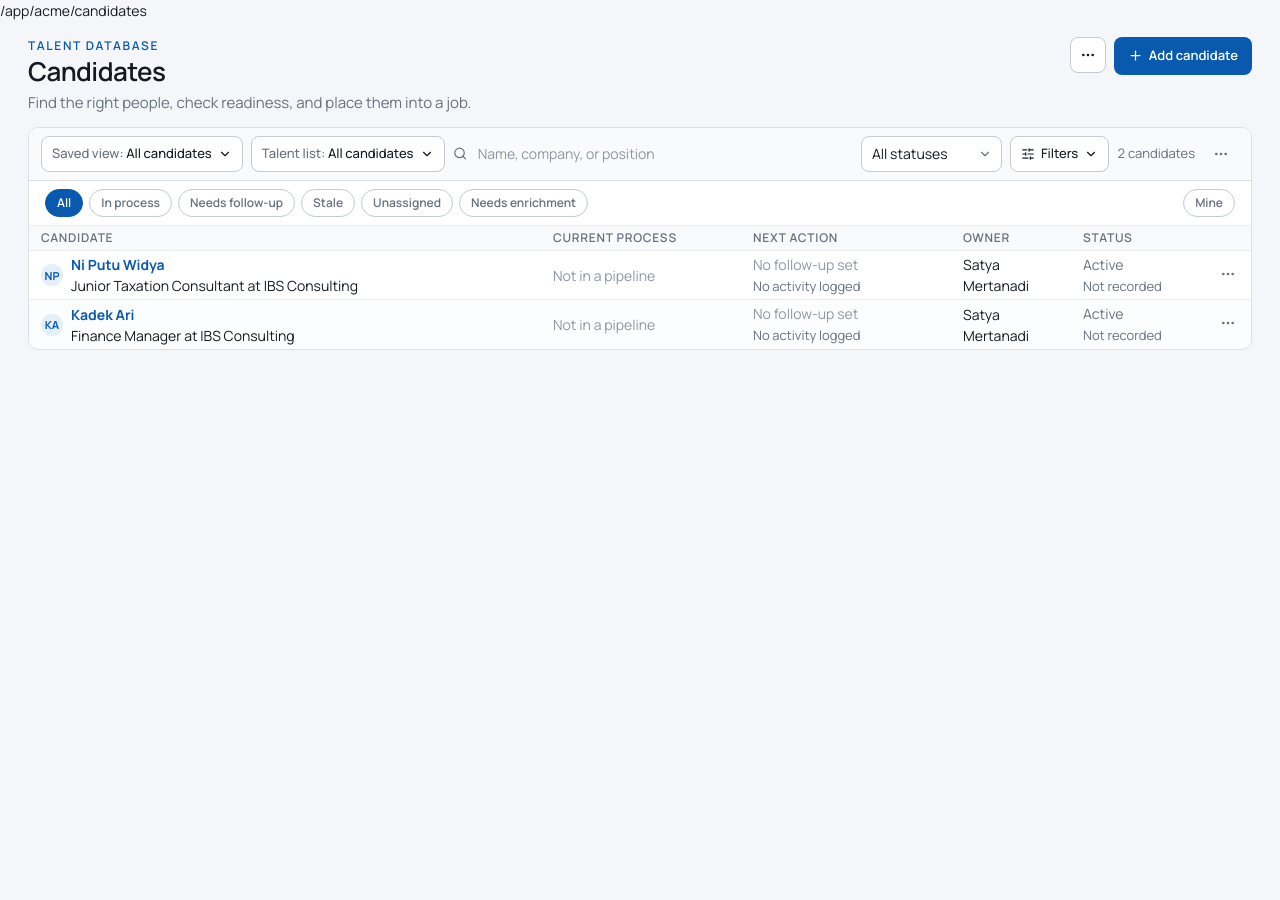
CandidatesPage Quick View › opens Quick View from a press on the row itself
The width and height of the screenshot is (1280, 900).
Click the cell "Not in a pipeline" in the row of "NP" at (641, 276), box [541,251,741,300]
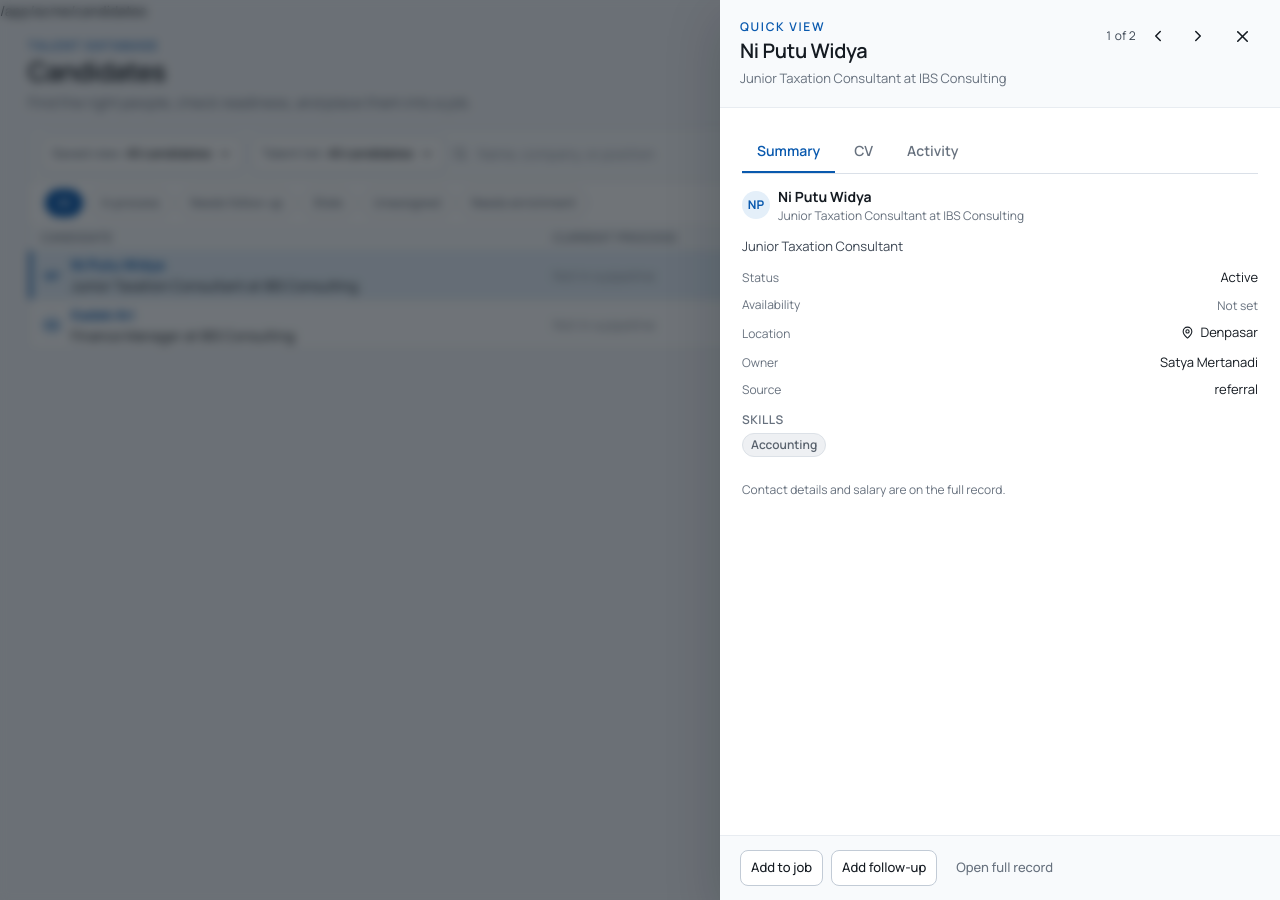
Check: the dialog shows "Ni Putu Widya", box [740,37,867,64]
